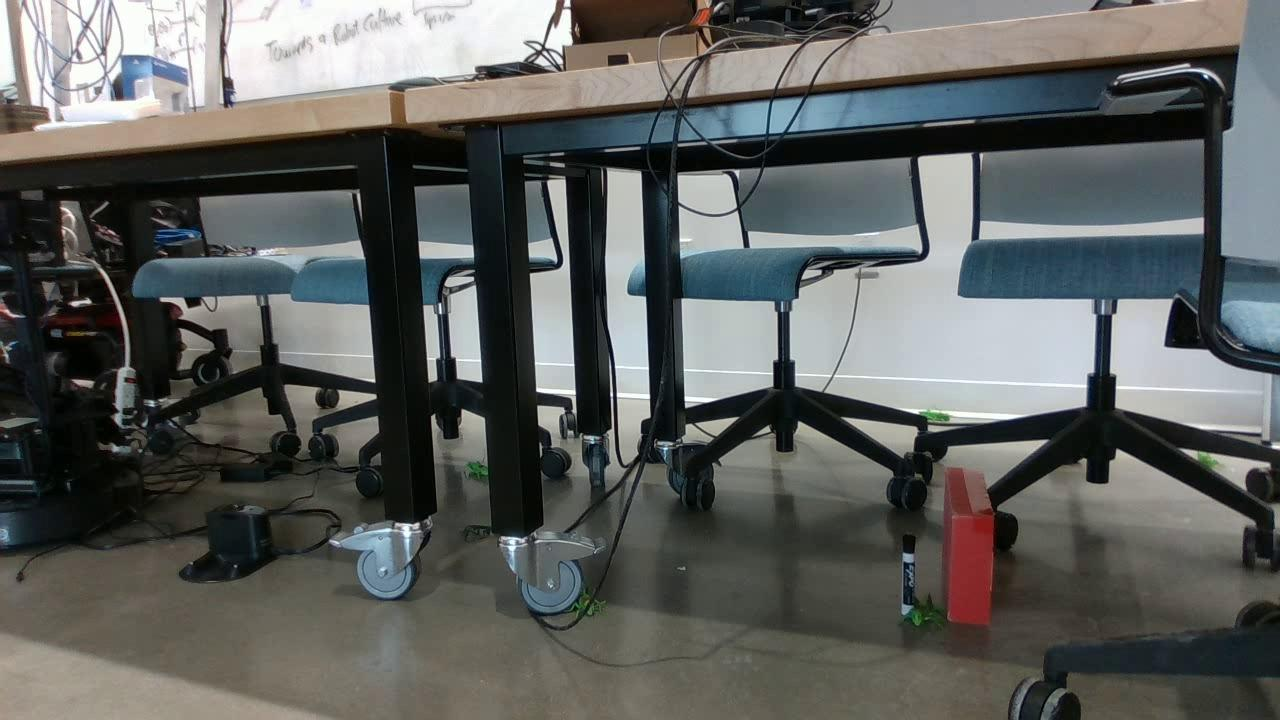grasshopper: (905, 593, 942, 631), (572, 588, 608, 615), (463, 460, 491, 483), (916, 409, 952, 426), (1197, 447, 1220, 471)
